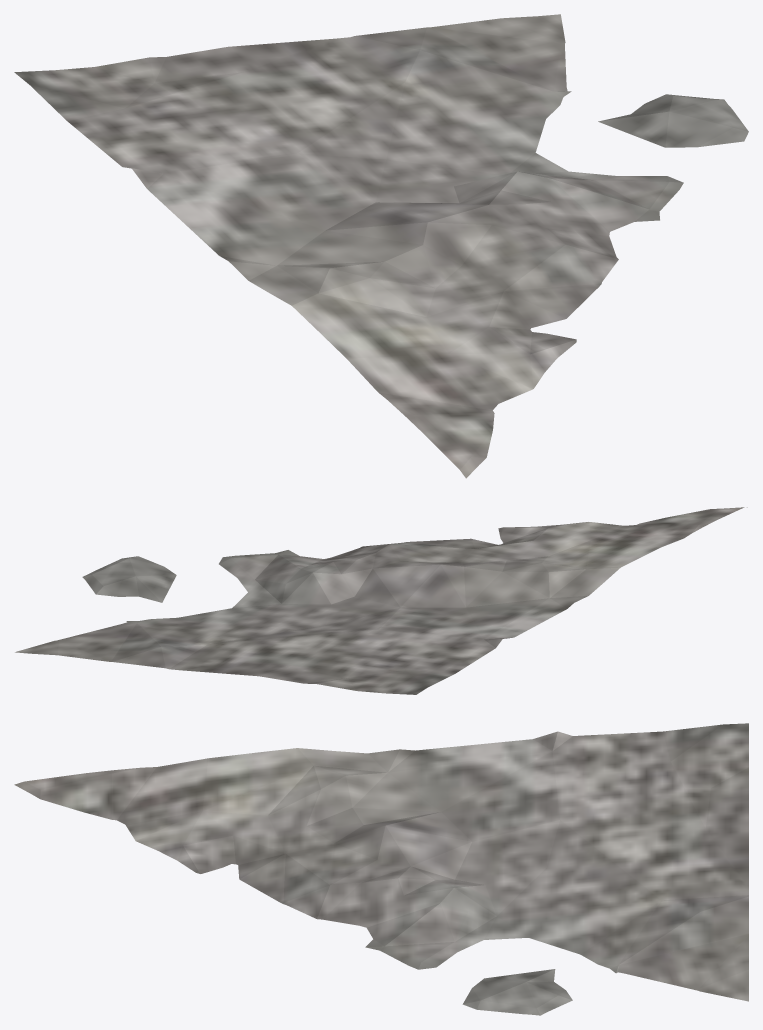
The picture shows the model from 3 angles, top to bottom: view 1: azimuth 30°, elevation 25°; view 2: azimuth 150°, elevation 25°; view 3: azimuth 270°, elevation 25°; orthographic projection. The views are drawn at different scales.
Size of the model in its own units: 0.6605 by 0.0819 by 0.8884.
Materials: 1 (1 with a texture image).
